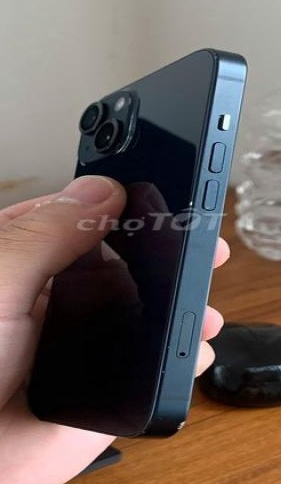scratch: (159, 401, 203, 436)
